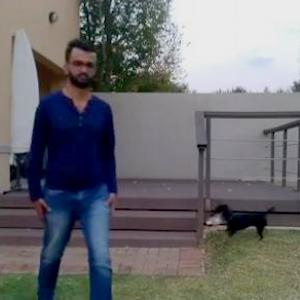follow: (33, 36, 133, 299)
